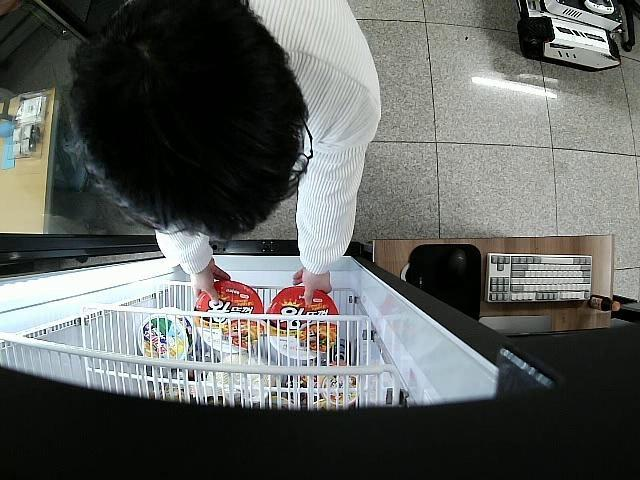10_wangTtukkeong: (192, 278, 264, 354), (270, 286, 338, 359)
